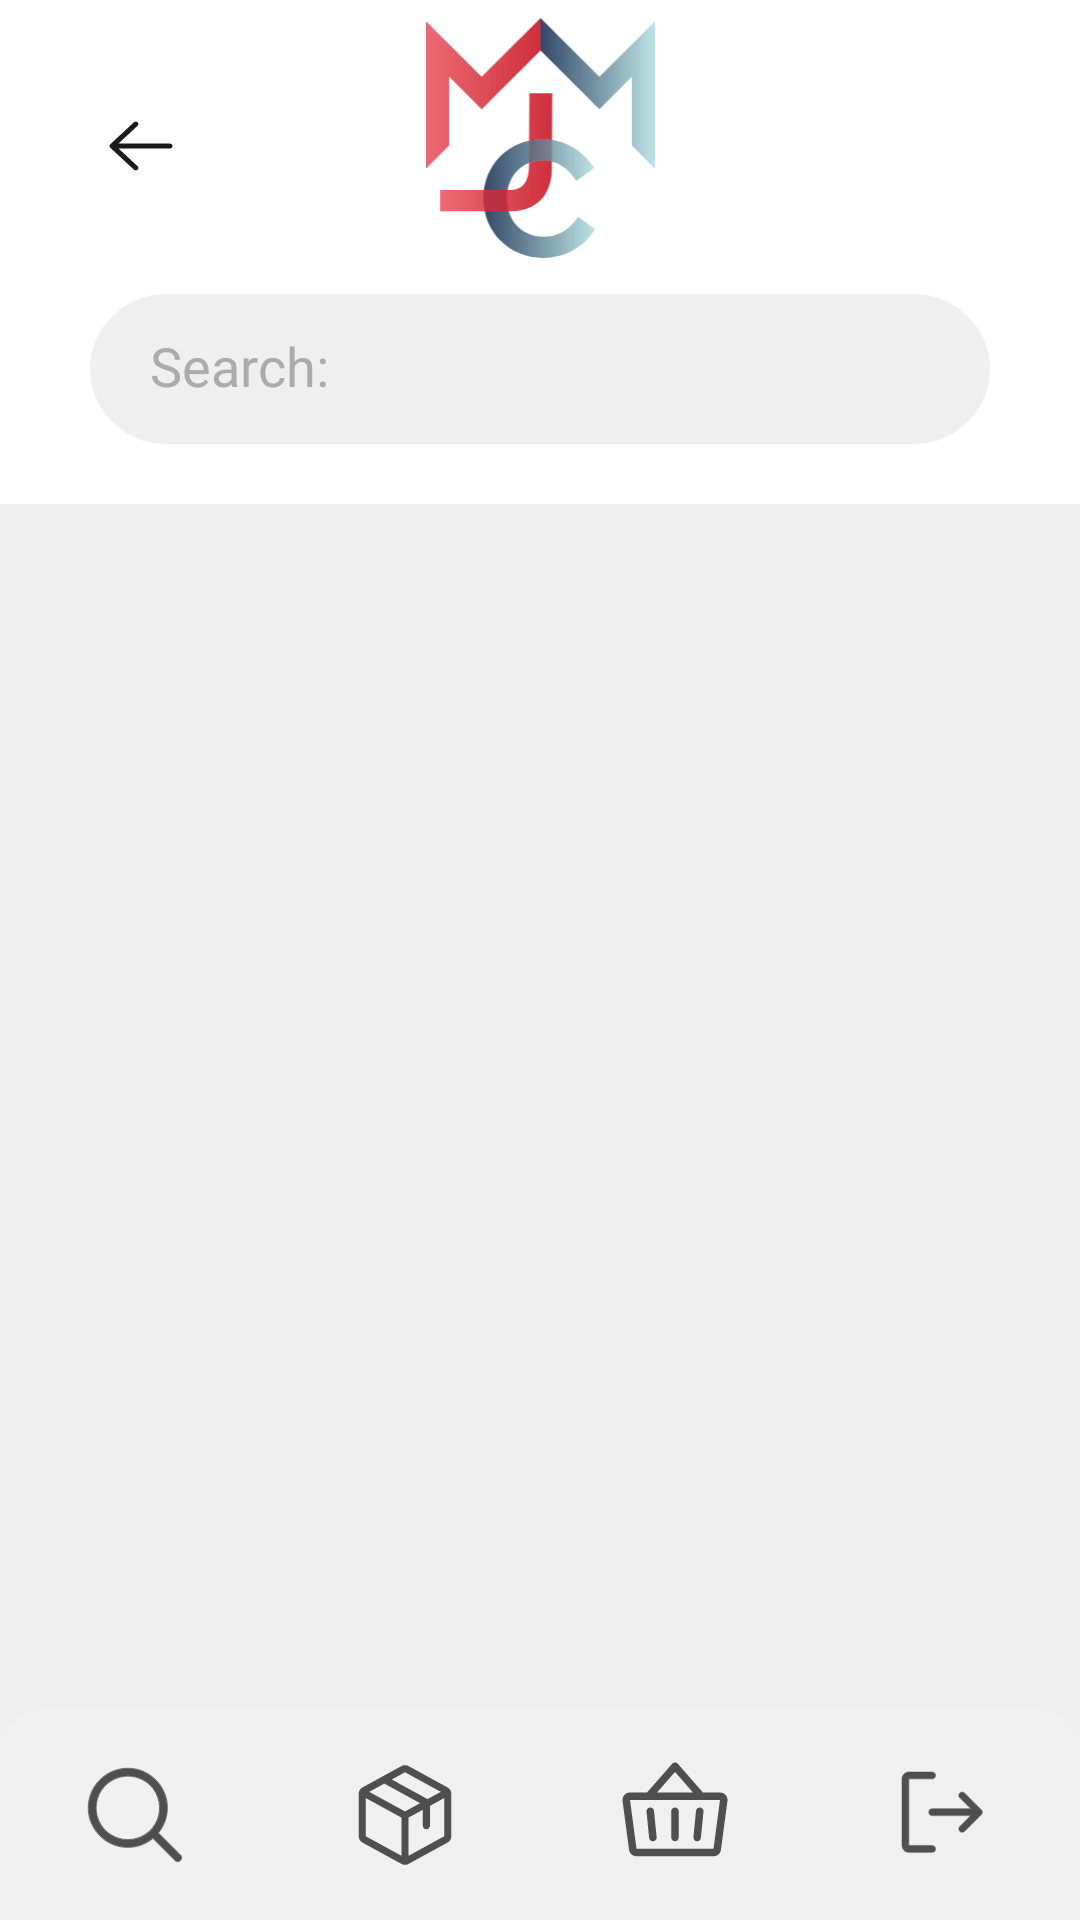

Icon click points for this 1080 × 1920 phone screenshot, format [x,y]:
arrow left back: [141,146]
basket: [675,1809]
package: [405,1815]
search: [134,1814]
